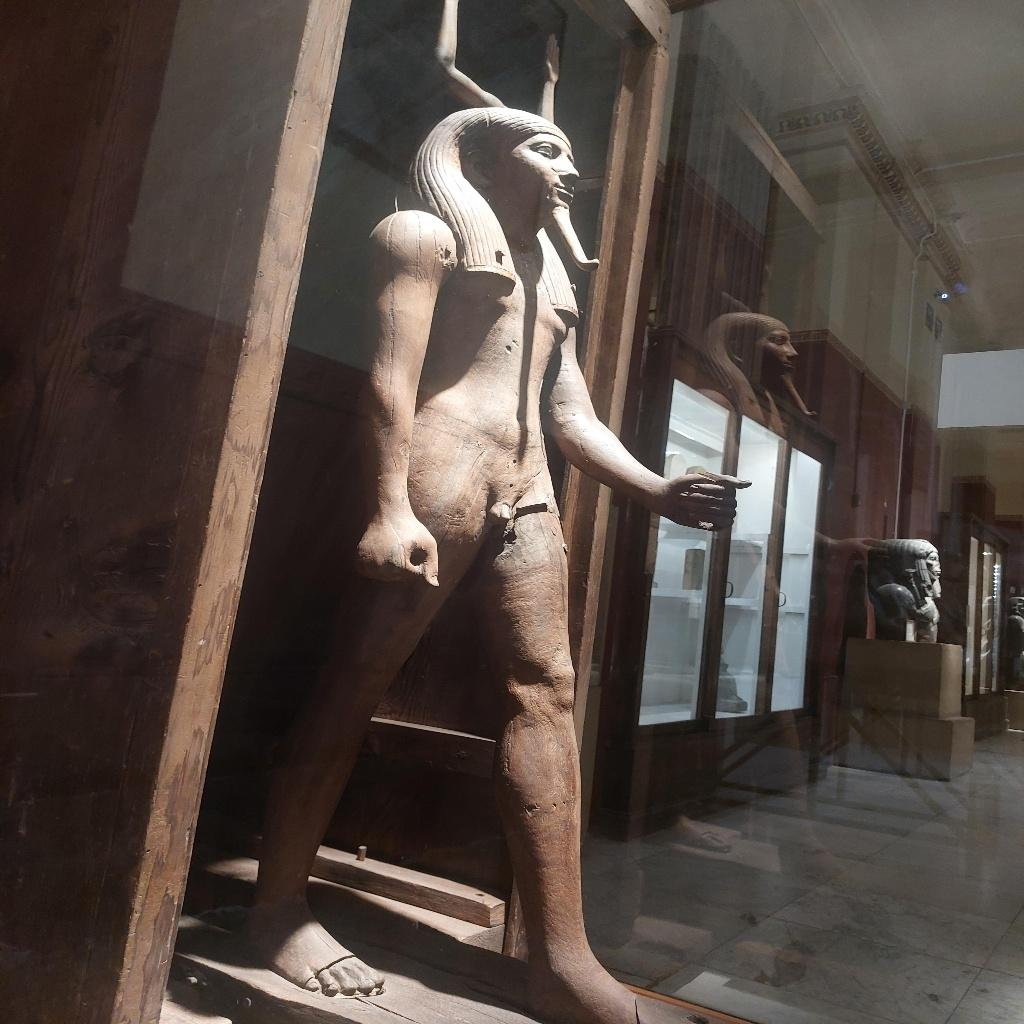Hor I: (234, 102, 755, 1020)
